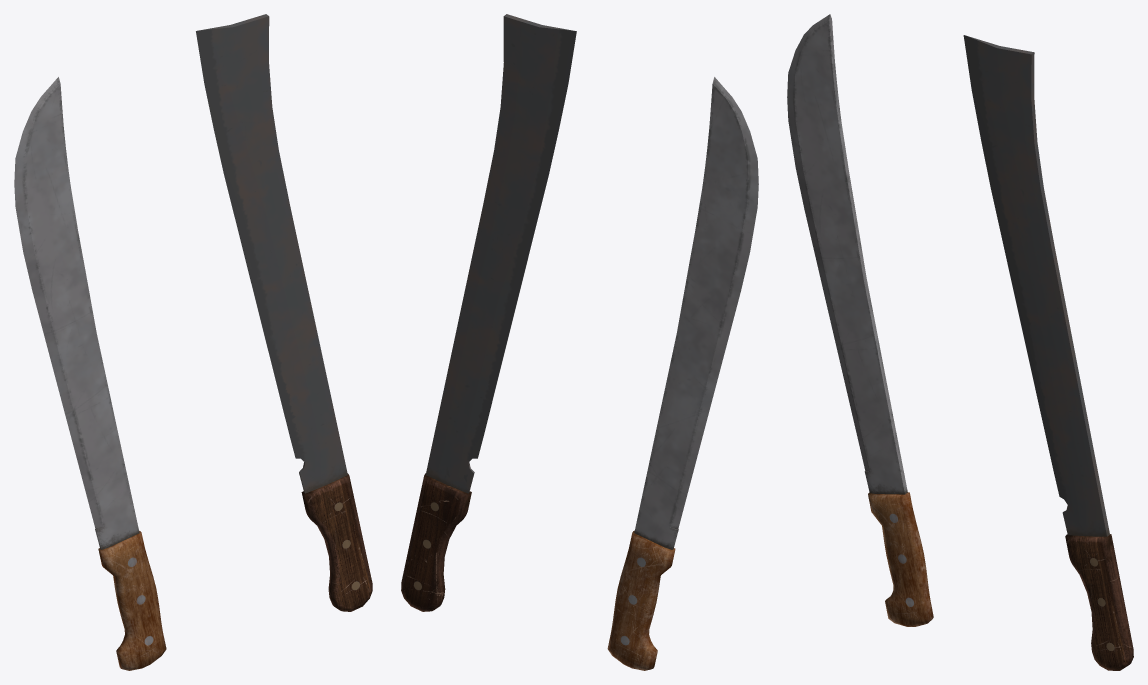
File: Machete_Final.fbx
3 views of the same model, side by side, from view 1: azimuth 30°, elevation 25°; view 2: azimuth 150°, elevation 25°; view 3: azimuth 330°, elevation 25° (orthographic). The views are drawn at different scales.
Visible parts, largest first — view 1: Tapanga, Latin; view 2: Tapanga, Latin; view 3: Tapanga, Latin.
Part boxes in pixels (<box>): Tapanga: <box>196,14,372,611</box>; Latin: <box>14,77,166,670</box>; Tapanga: <box>401,14,576,611</box>; Latin: <box>607,77,758,670</box>; Tapanga: <box>963,35,1133,670</box>; Latin: <box>787,14,933,626</box>.
Bounding box in the file's own units: 110 × 184 × 3.99.
